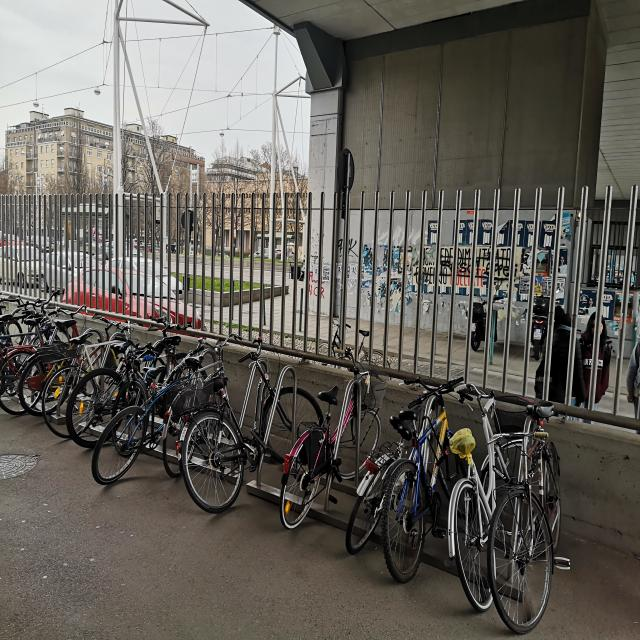Bicycle: (491, 386, 604, 640), (382, 365, 477, 611), (352, 358, 451, 568), (102, 338, 235, 493), (191, 358, 308, 520), (283, 367, 390, 540), (452, 363, 524, 608), (71, 318, 212, 434), (0, 290, 120, 417), (50, 304, 148, 430), (28, 306, 118, 415), (4, 285, 61, 361)
